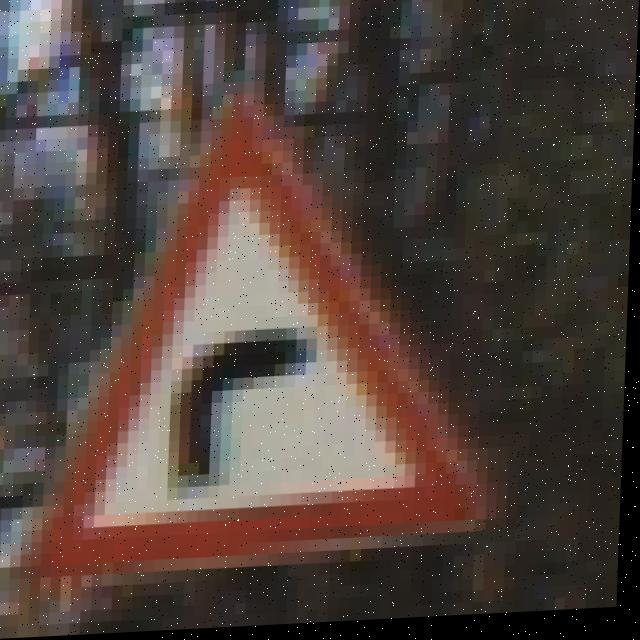right_turn: (25, 61, 530, 585)
